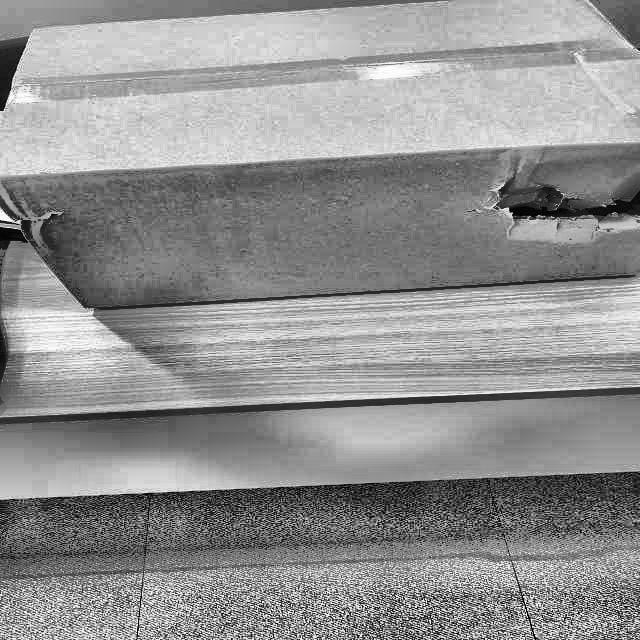box: (0, 0, 639, 331)
hole: (487, 170, 639, 240)
